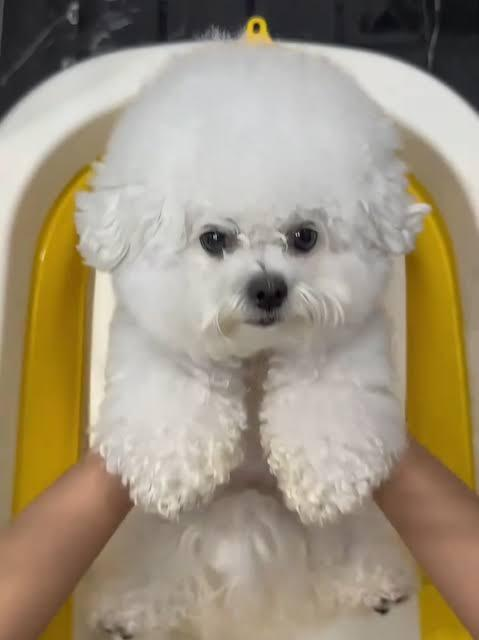adult_dog: (76, 34, 437, 640)
